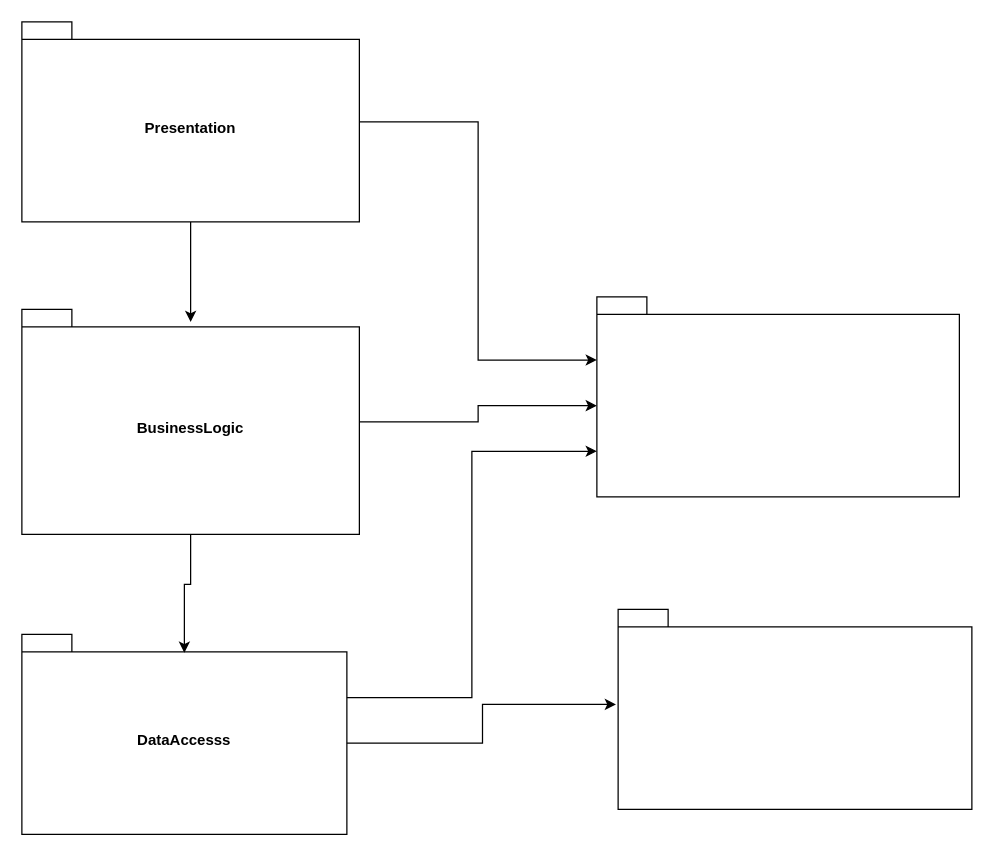
This 994x856 diagram has some shape labels left out. The shapes that lost their labels are listed below. From the top down, each one's centre as x and y in pixels, then its label:
At point (777, 396): "Model".
At point (794, 708): "Connection".
